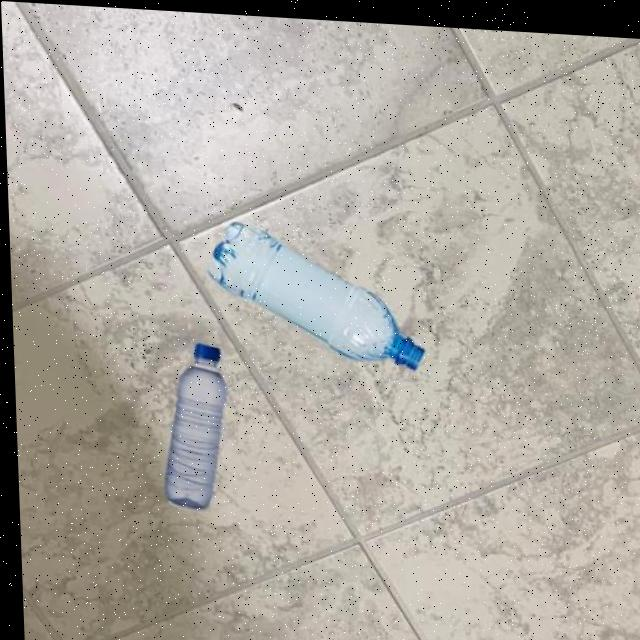bottle: (203, 215, 424, 368), (156, 338, 229, 510)
